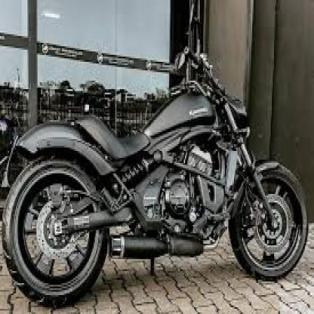Motocicleta: (2, 0, 309, 306)
